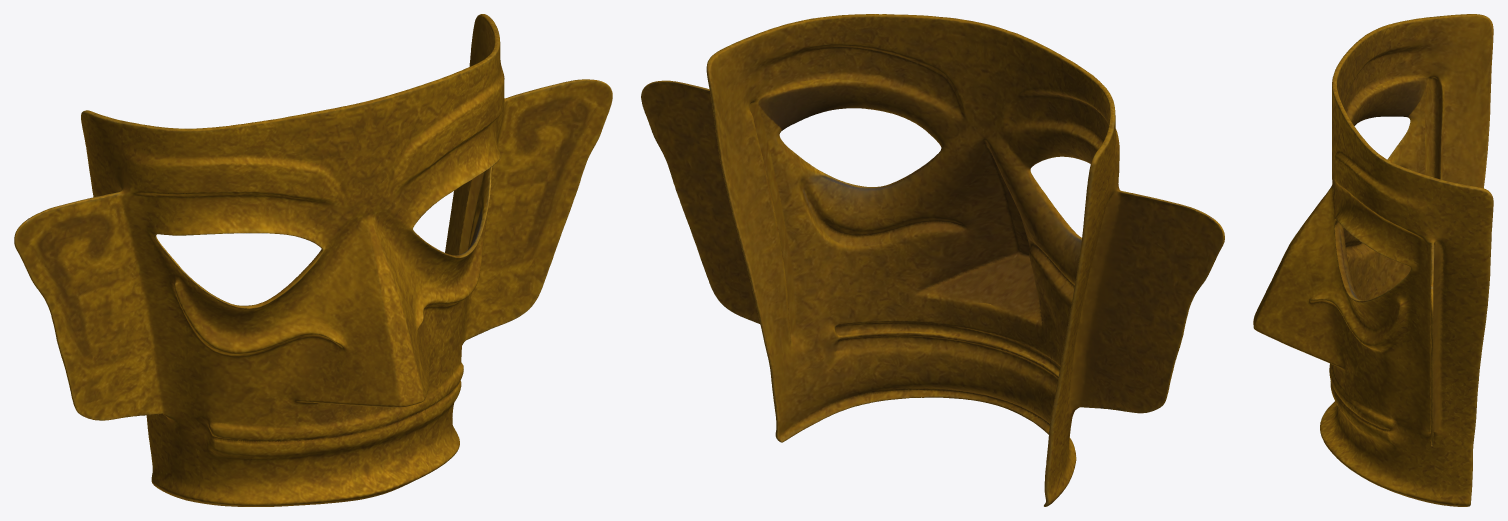
Rendered from golden-guardian-mask.glb.
3 renders of one model, left to right at view 1: azimuth 30°, elevation 25°; view 2: azimuth 150°, elevation 25°; view 3: azimuth 270°, elevation 25°, orthographic. The views are drawn at different scales.
Size of the model in its own units: 1.9 by 1.24 by 0.7372.
1 material, 1 textured.
